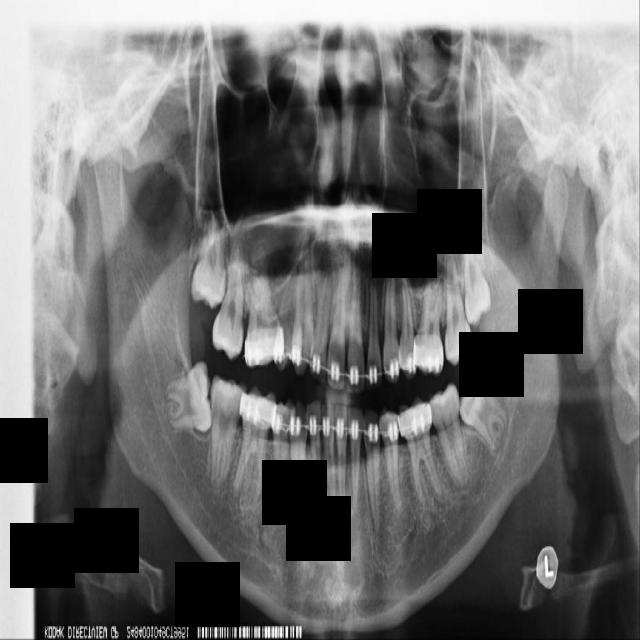3M ESPE Implant: (188, 209, 238, 311)
73: (602, 575, 610, 591)
BioHorizons Implant: (441, 238, 473, 367)
BioLife Implant: (460, 226, 492, 328)
Biomet 3i Implant: (441, 359, 520, 457)
Blue Sky Bio Implant: (425, 383, 471, 492)
Caries: (212, 240, 245, 361)
Implant: (210, 375, 247, 489)
Keystone Dental Implant: (163, 361, 213, 435)
